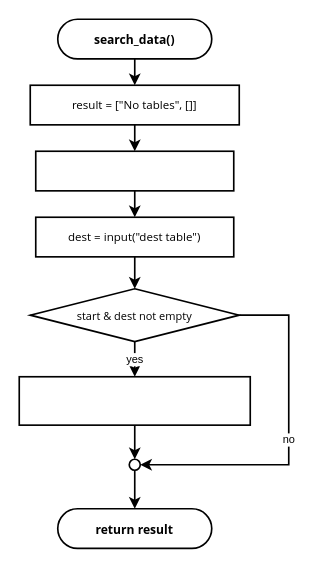
This 318x569 diagram has some shape labels left out. Each missing label, with the centre of its shape:
result = a_star_search( graph, start, dest): pixel 134 400
start = input("start table"): pixel 134 170
